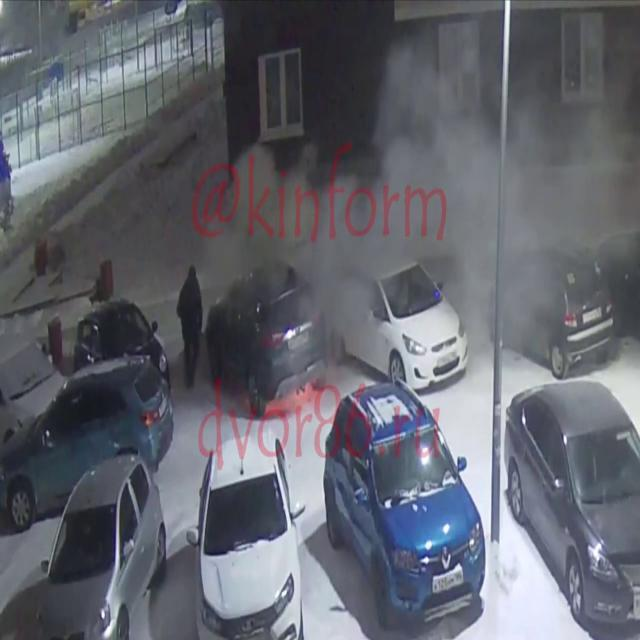Smoke: (353, 8, 640, 328), (227, 138, 402, 354)
